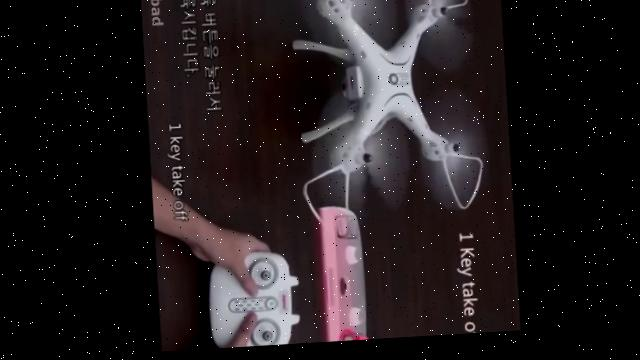drone: (283, 0, 489, 238)
